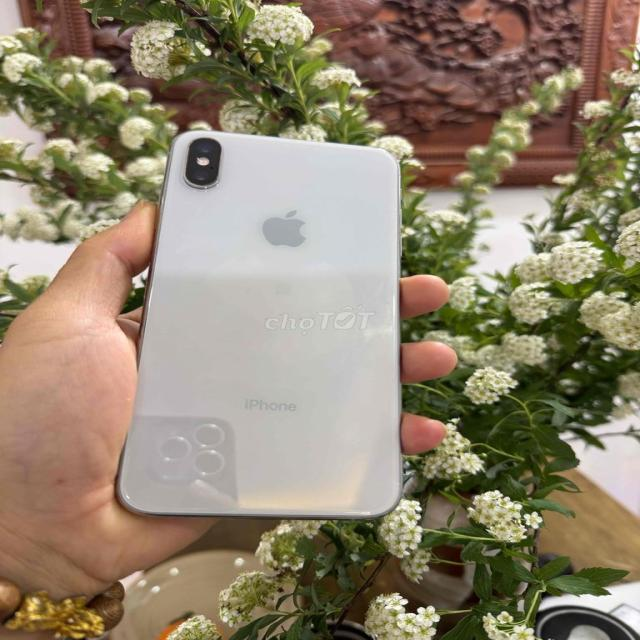gen_x_xs: (118, 131, 402, 519)
